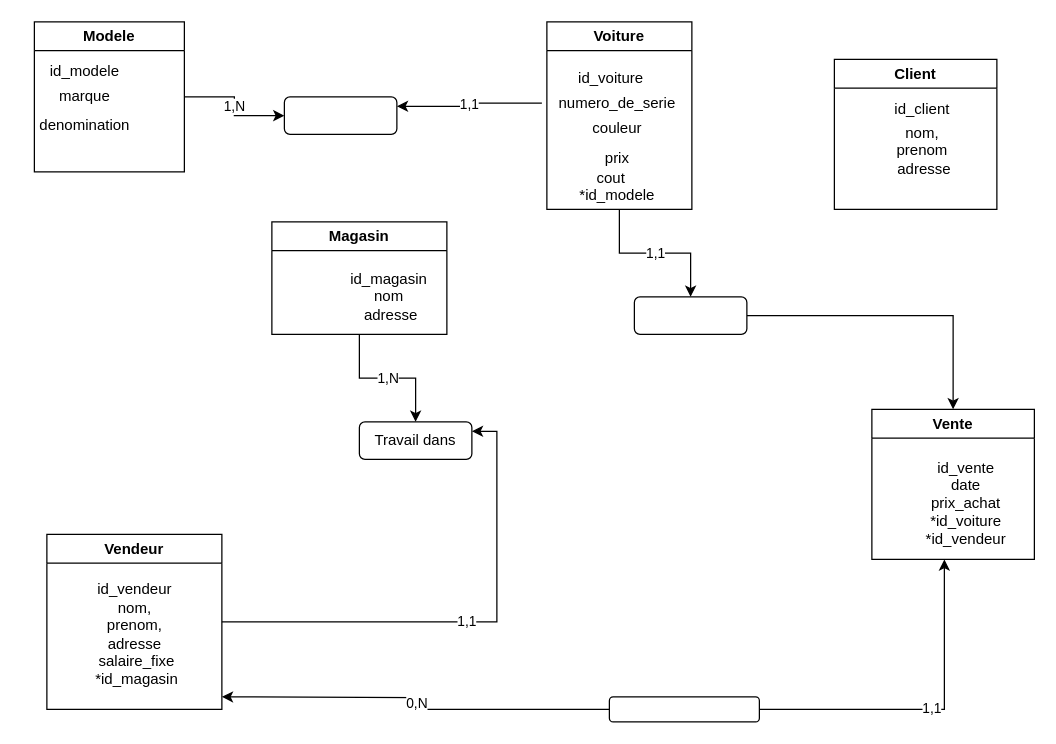
Image size: 1056x744. Some labels were removed from this diagram. Here are the shapes that lost their labels. From the top down, the centre of each, then its label:
(340,115): Possède
(690,315): vendue
(683,709): Réaliser
